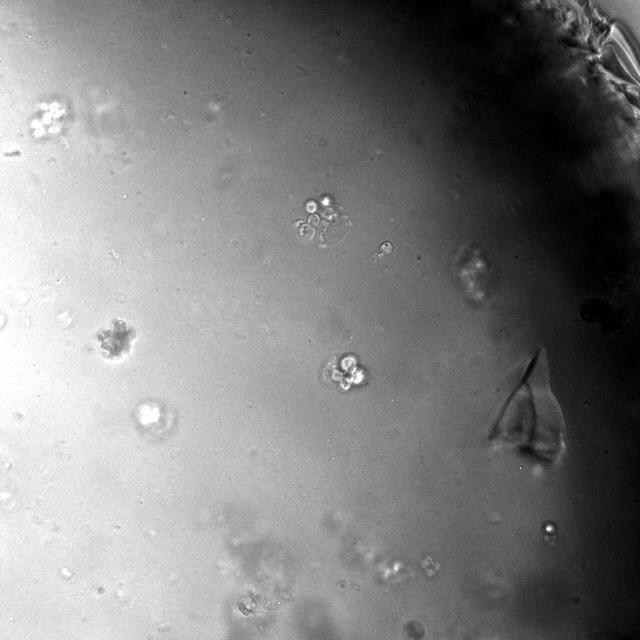organoid: (450, 242, 494, 306), (293, 194, 338, 241), (31, 95, 74, 140), (320, 352, 368, 392), (96, 318, 136, 361), (238, 594, 257, 616), (404, 620, 424, 639), (379, 240, 392, 254)
